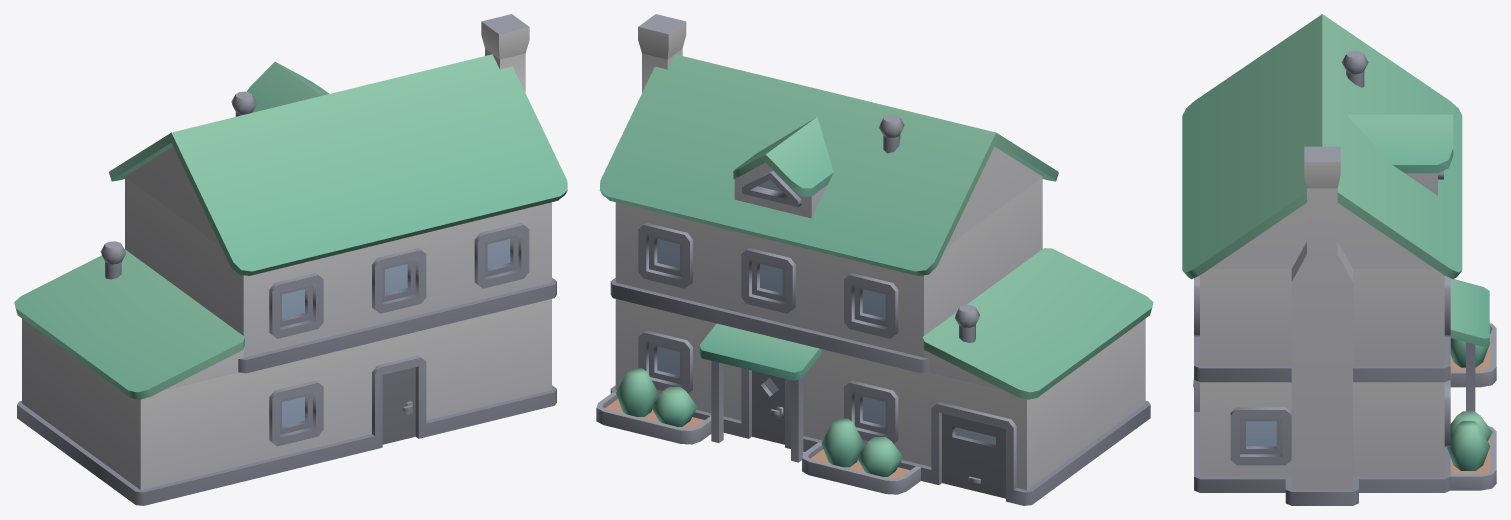
Rendered from building-type-d.glb.
3 views of the same model, side by side, from view 1: azimuth 30°, elevation 25°; view 2: azimuth 150°, elevation 25°; view 3: azimuth 270°, elevation 25° (orthographic). The views are drawn at different scales.
Visible parts, largest first — view 1: building-type-d; view 2: building-type-d; view 3: building-type-d.
Part boxes in pixels (box(x1,y1,x2,y2)): building-type-d: box(14, 14, 567, 505); building-type-d: box(596, 14, 1153, 505); building-type-d: box(1182, 14, 1496, 505).
Size of the model in its own units: 1.76 by 1.24 by 1.03.
